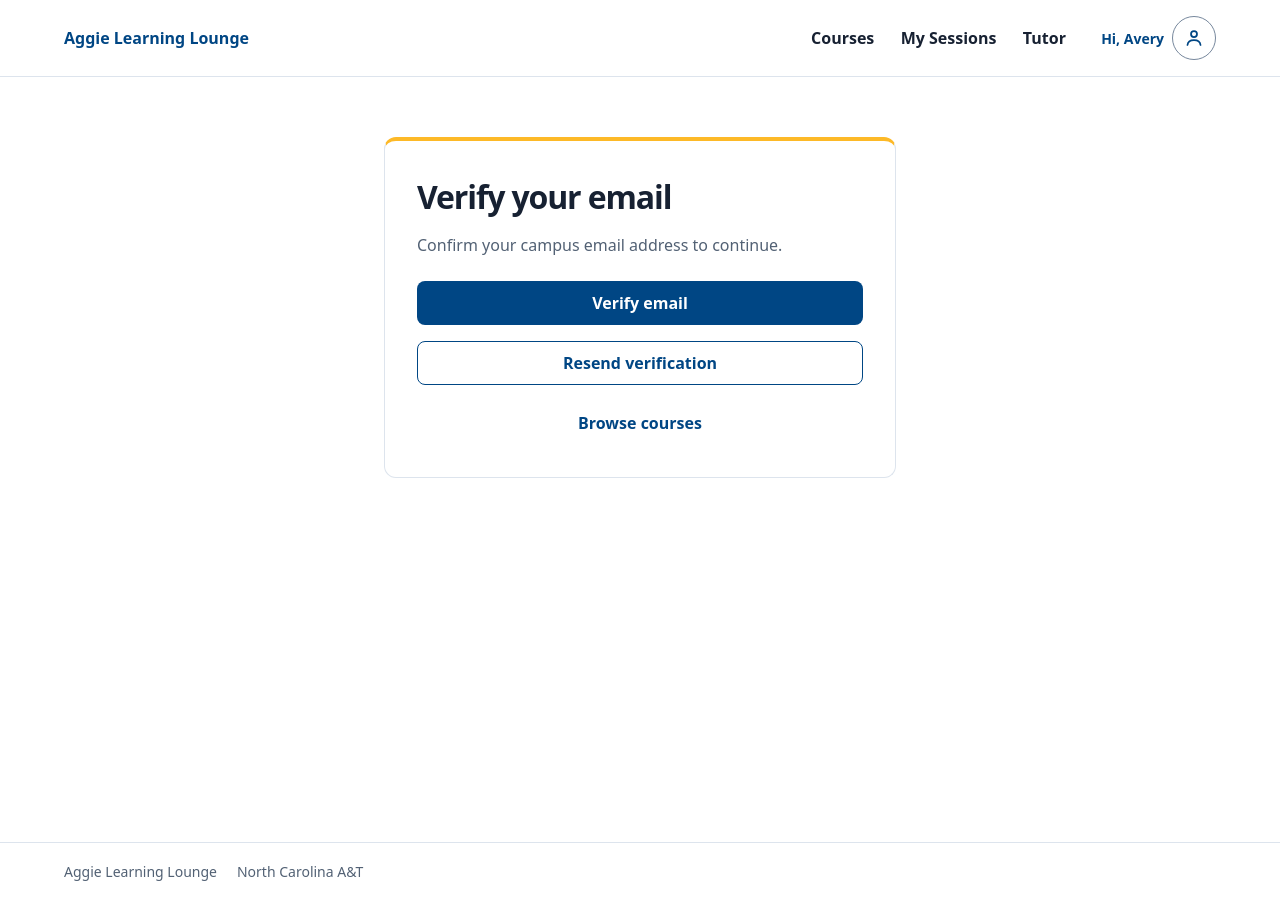
Test: Phase 2 — Account and session flows › submits the email token and refreshes the signed-in profile after verification
This screenshot has width=1280, height=900.
Expected: the button "Resend verification" is shown, [417, 341, 863, 385]
Click the button "Verify email".
click(640, 303)  # box [417, 281, 863, 325]
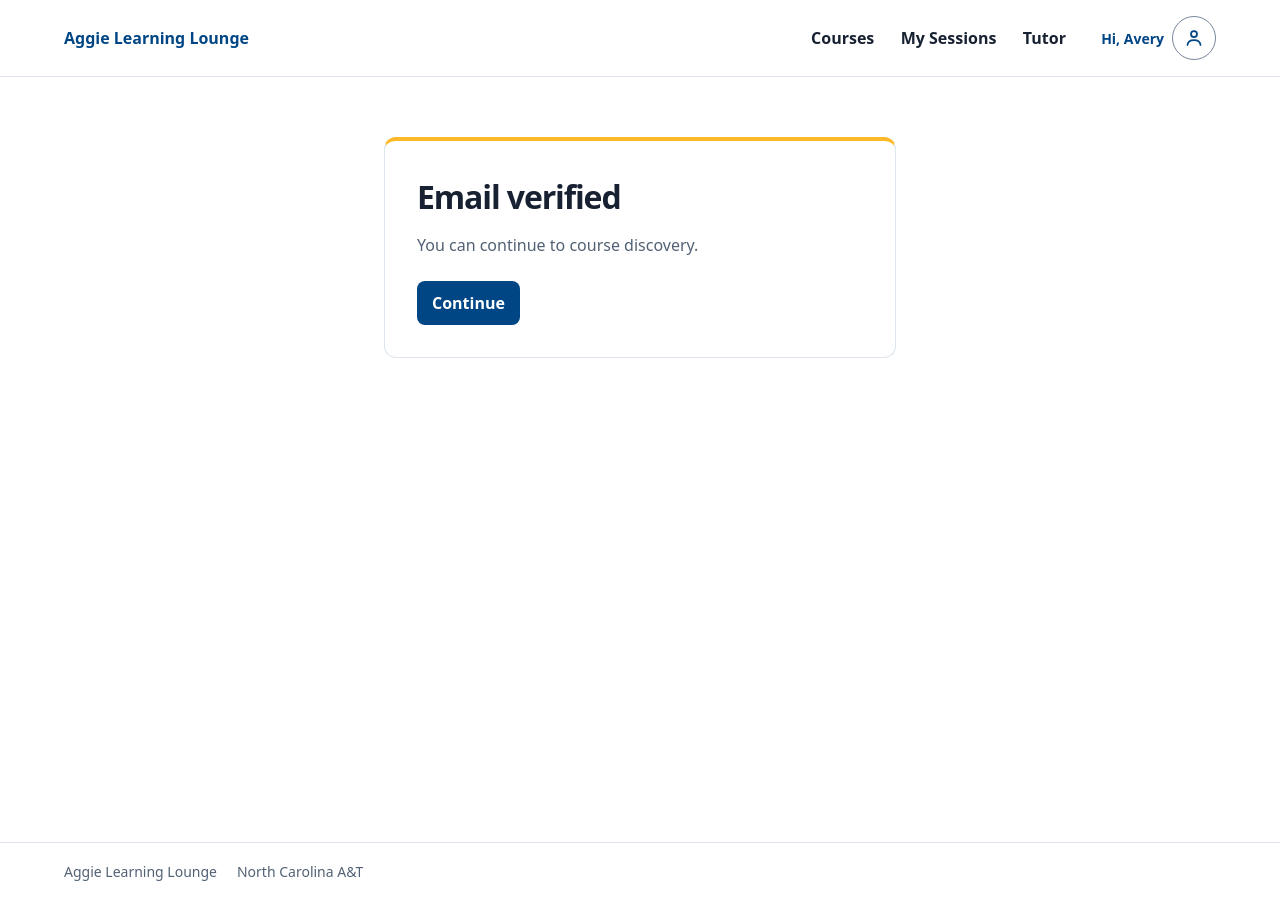
Now the heading "Email verified" is shown, box [417, 175, 621, 218]
